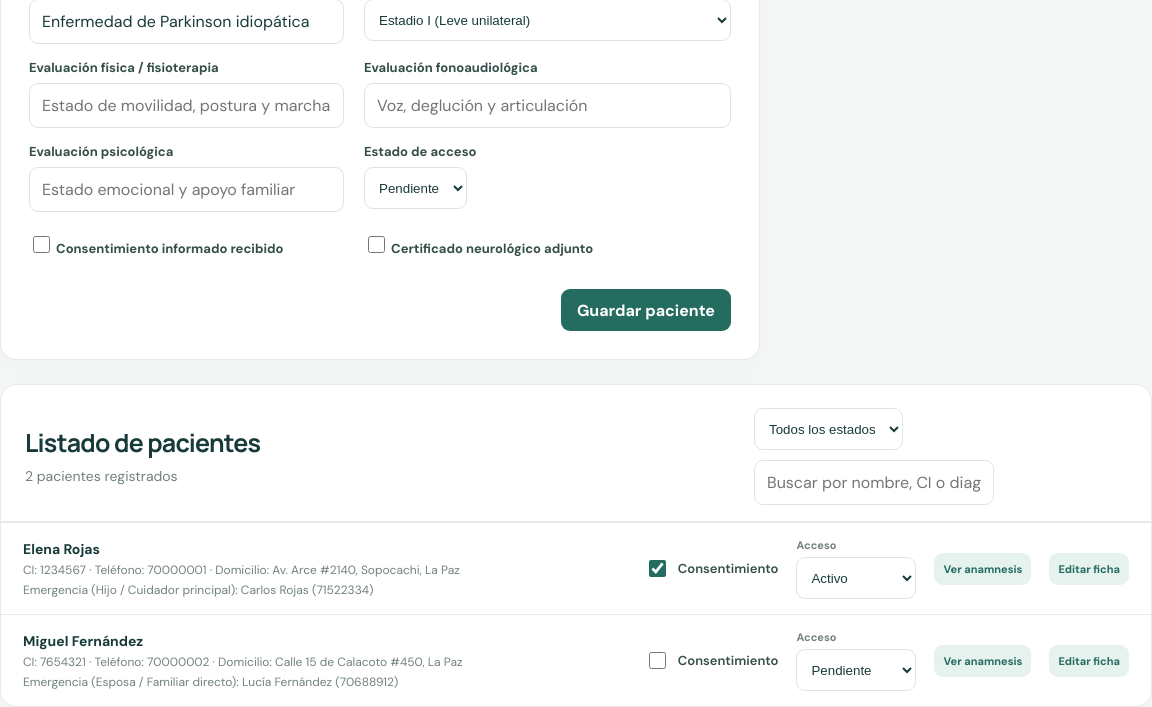
Scenario: SCRUM-68: PatientsView — listado y formulario de pacientes › lista los pacientes y filtra por la búsqueda
The width and height of the screenshot is (1152, 707).
(page scrolled)
Type "Miguel" into the field named "Buscar paciente" at (874,483), box [754,460,994,505]
(page scrolled)
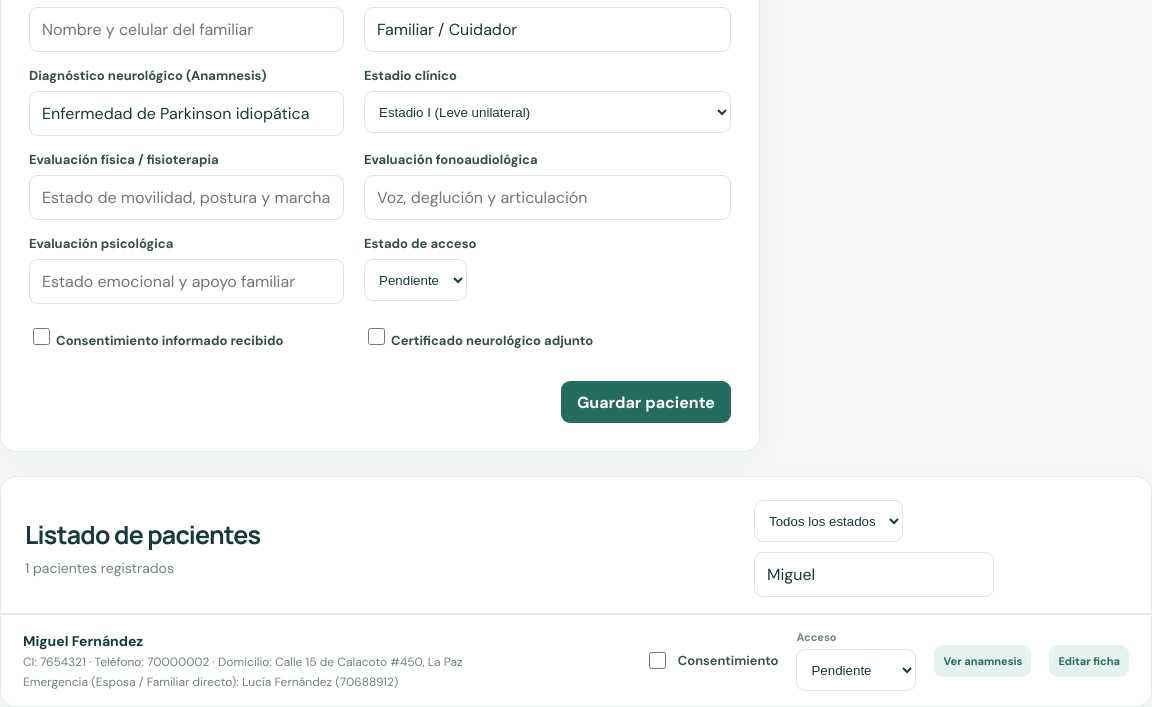
Now the text "Elena Rojas" is gone
